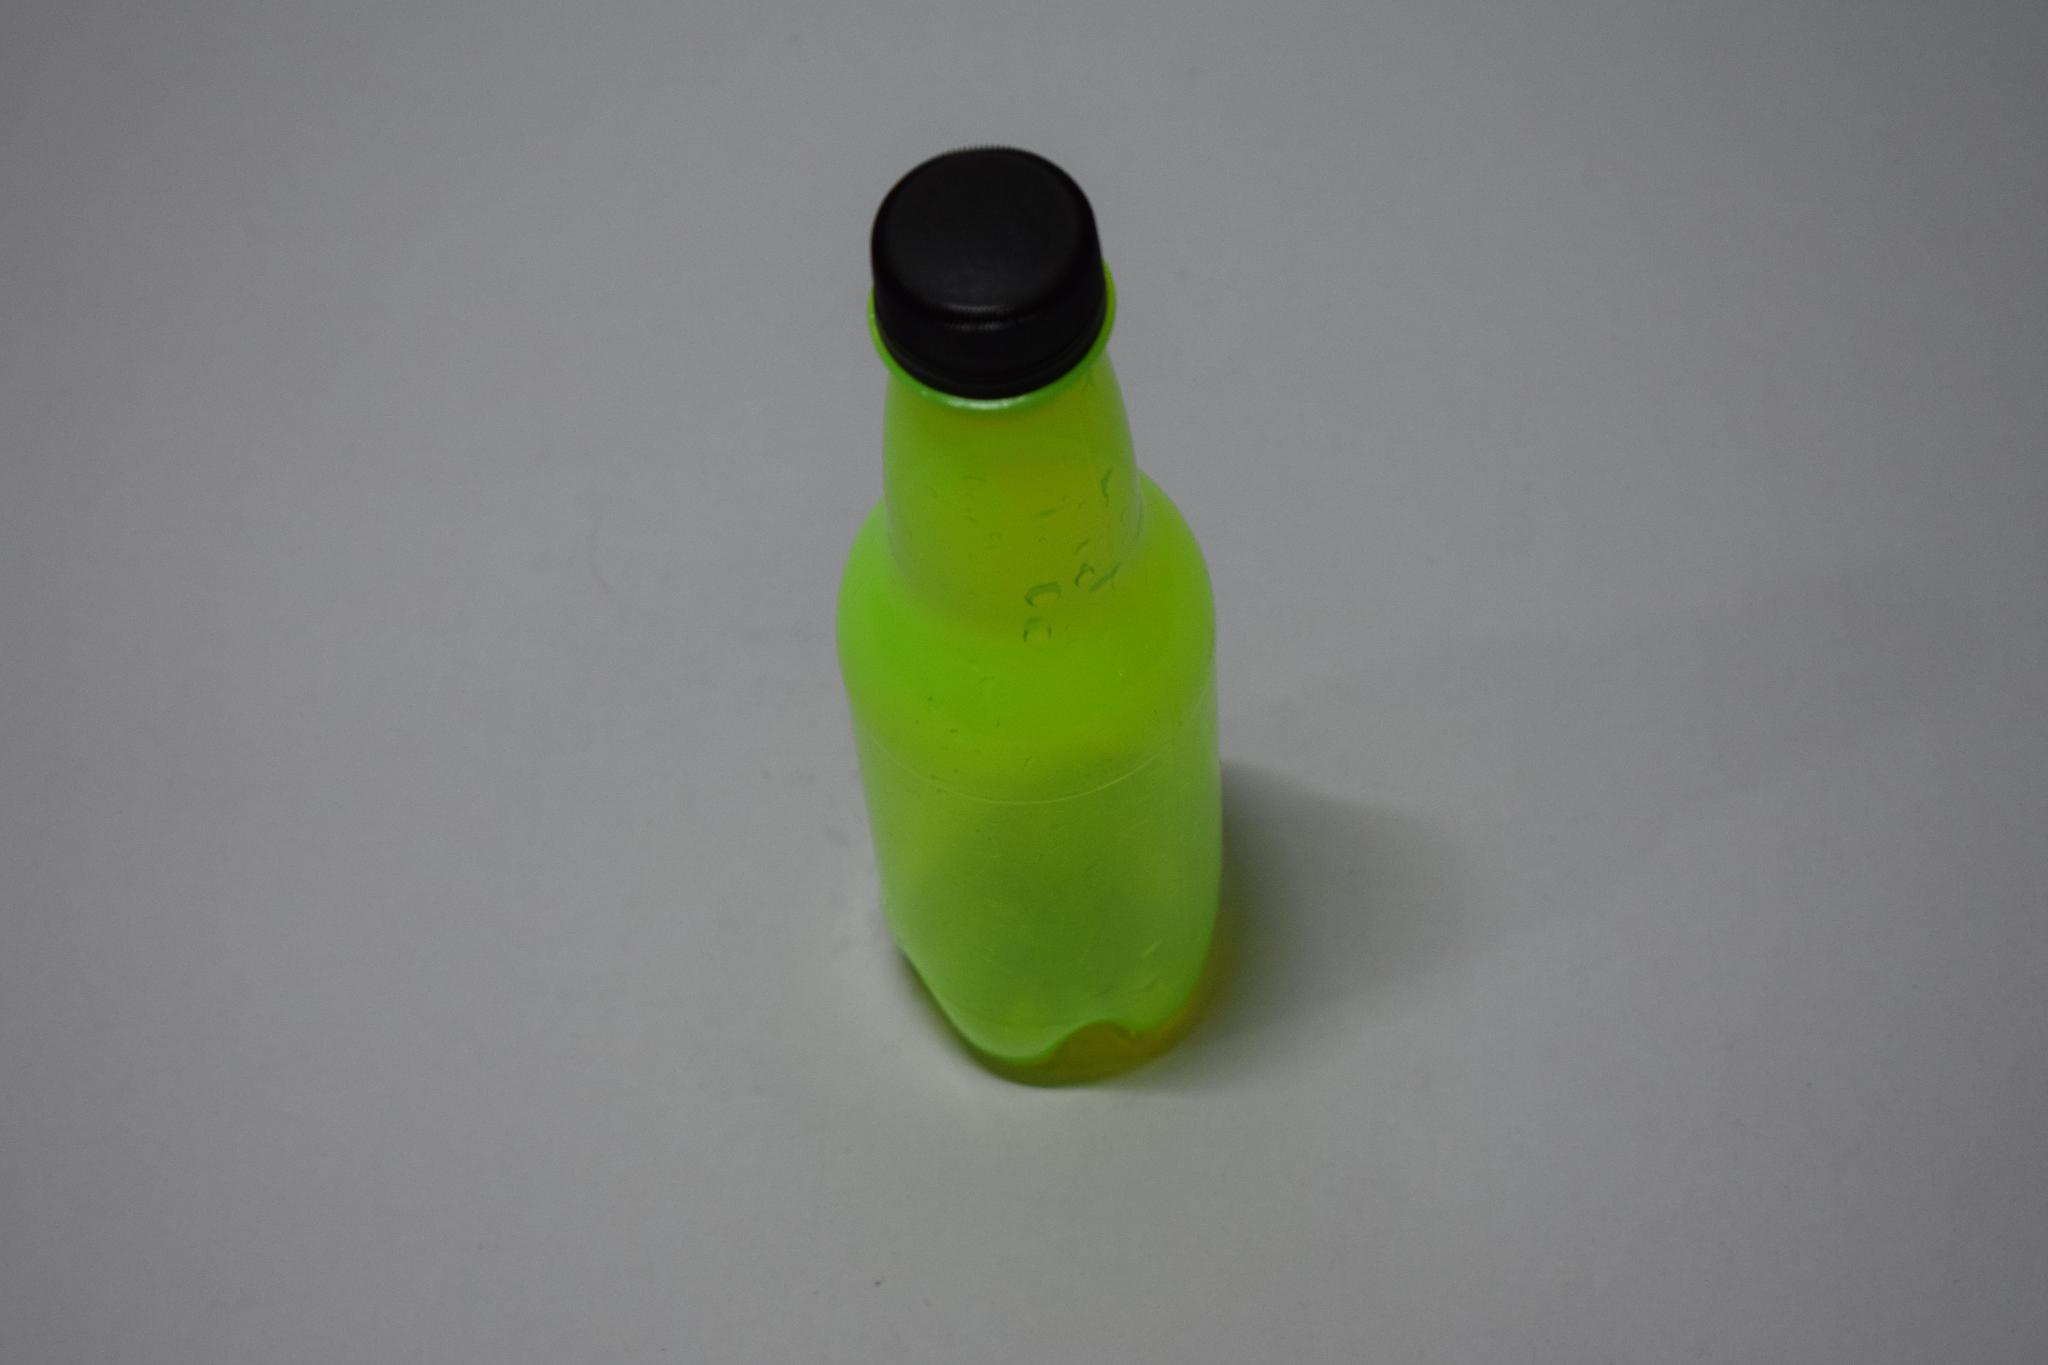bottle: (841, 146, 1258, 1088)
